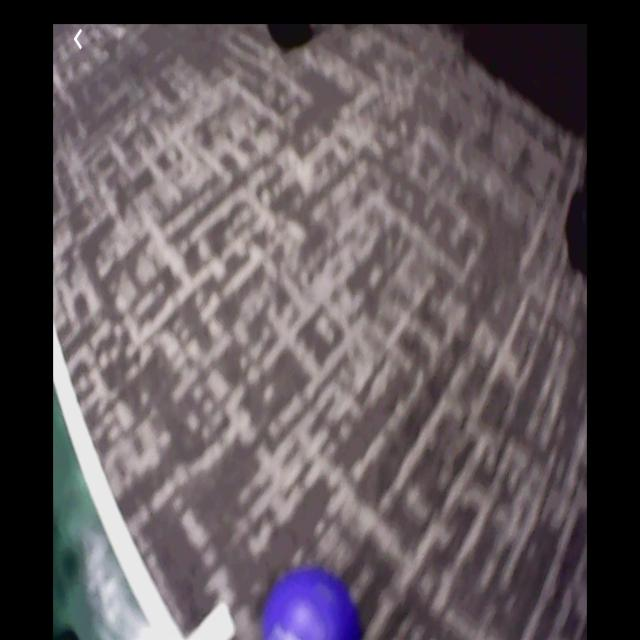ball: (262, 569, 363, 639)
